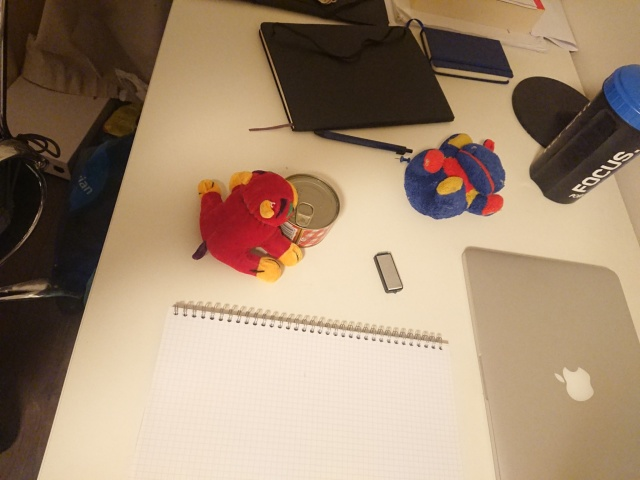Podravka Luncheon Meat 150g: (269, 171, 343, 250)
